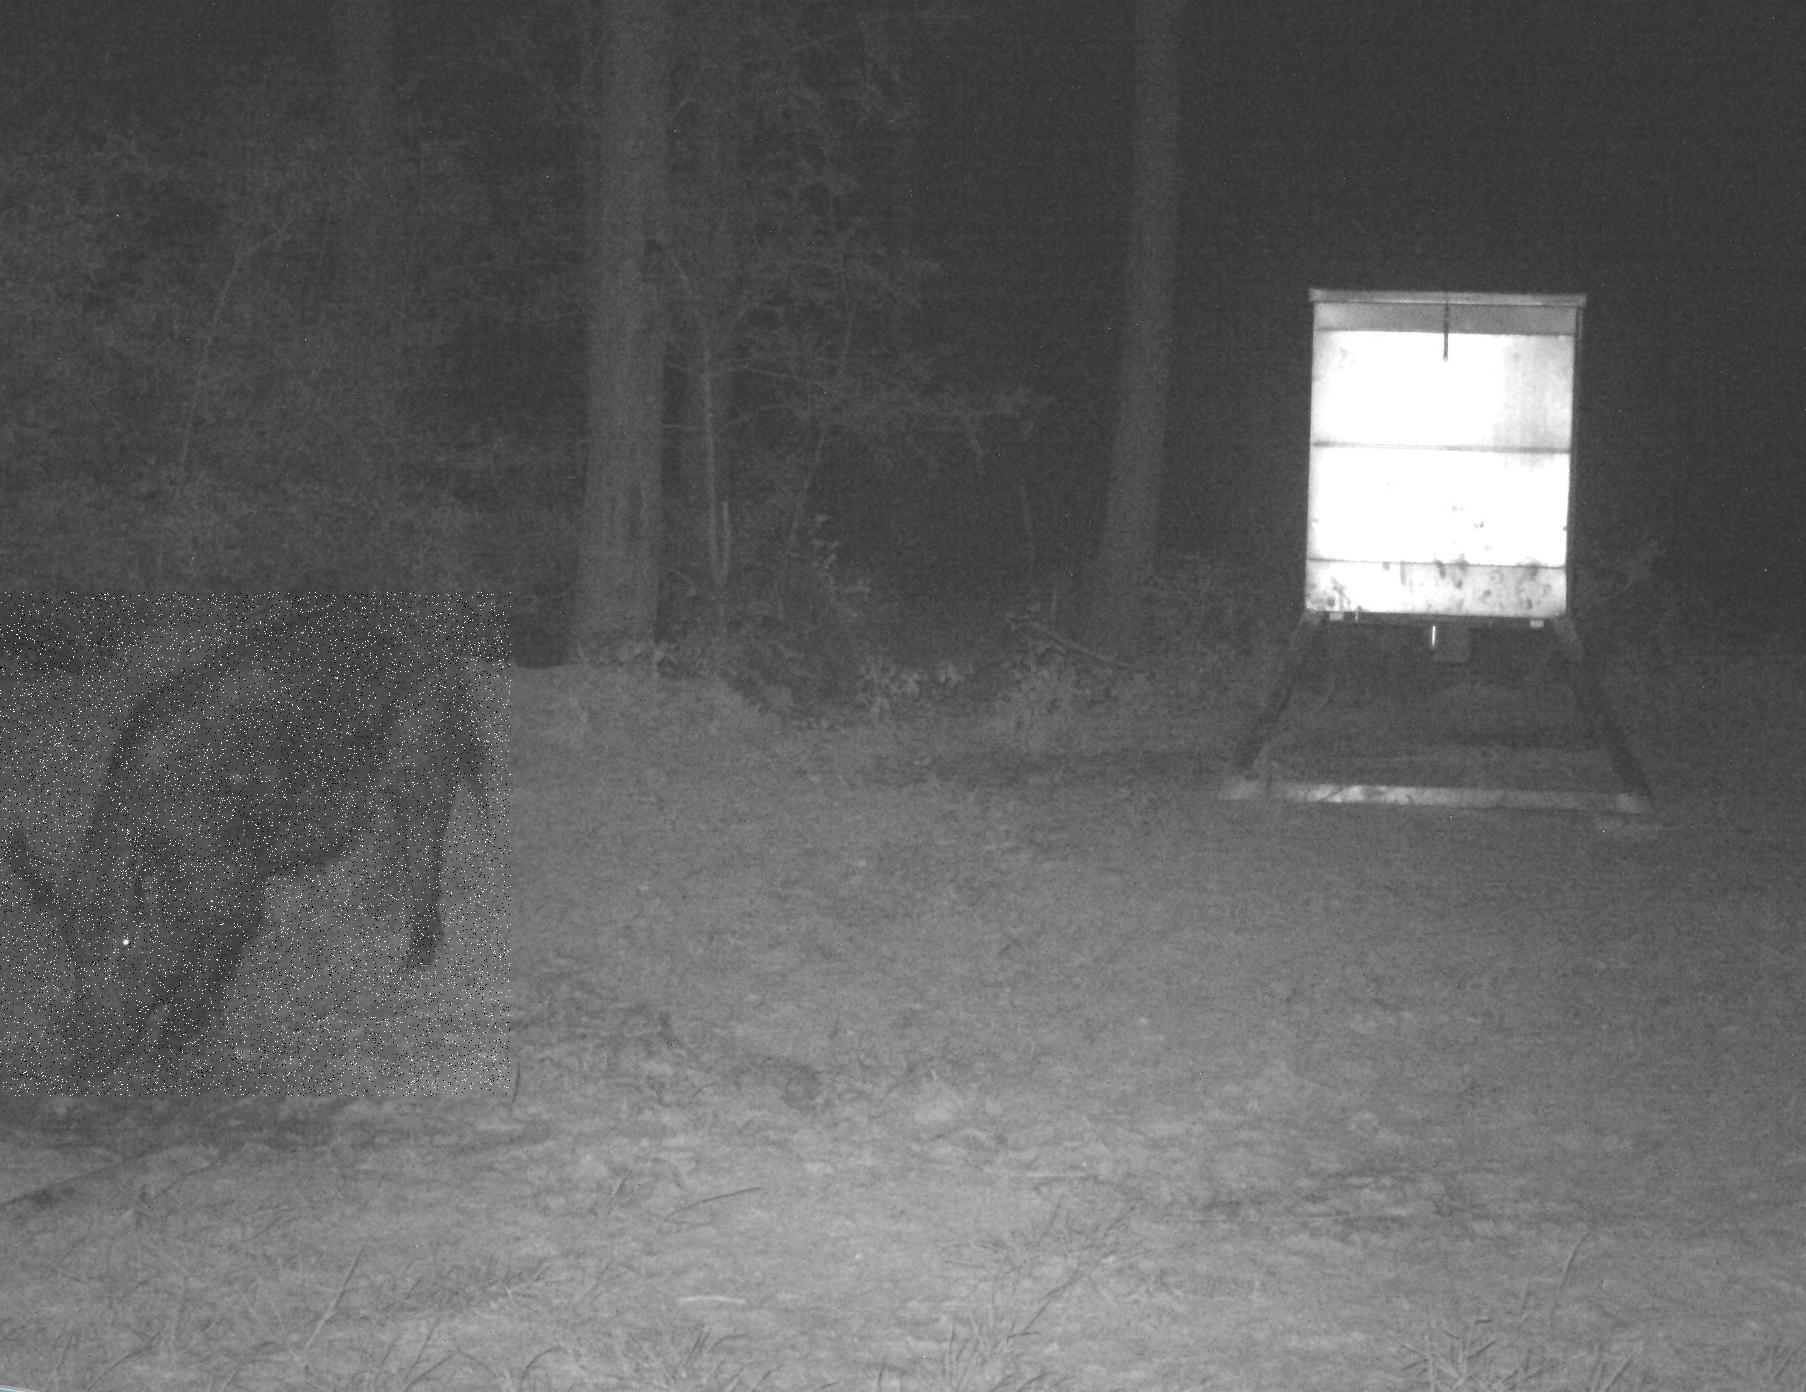Hog: (0, 592, 510, 1097)
